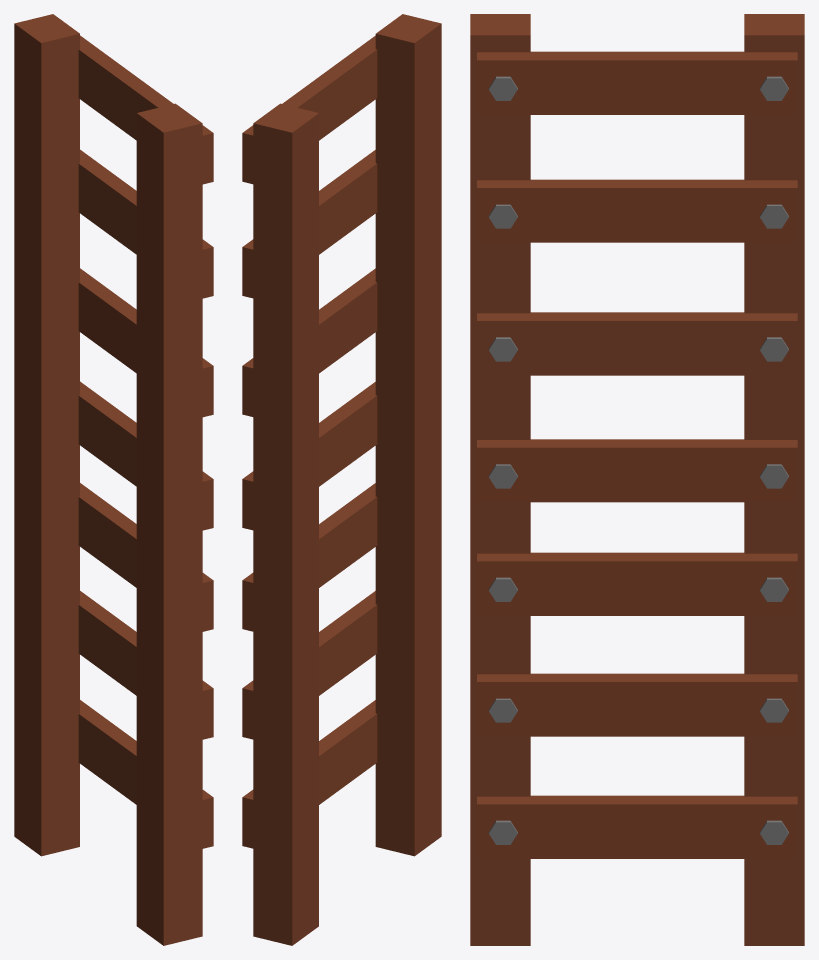
Rendered from ladder.glb.
The picture shows the model from 3 angles, left to right: view 1: azimuth 30°, elevation 25°; view 2: azimuth 150°, elevation 25°; view 3: azimuth 270°, elevation 25°; orthographic projection. The views are drawn at different scales.
Visible parts, largest first — view 1: Cube; view 2: Cube; view 3: Cube.
Part boxes in pixels (<box>): Cube: <box>14,14,213,945</box>; Cube: <box>242,14,441,945</box>; Cube: <box>470,14,804,945</box>.
Bounding box in the file's own units: 0.7162 × 10 × 3.33.
